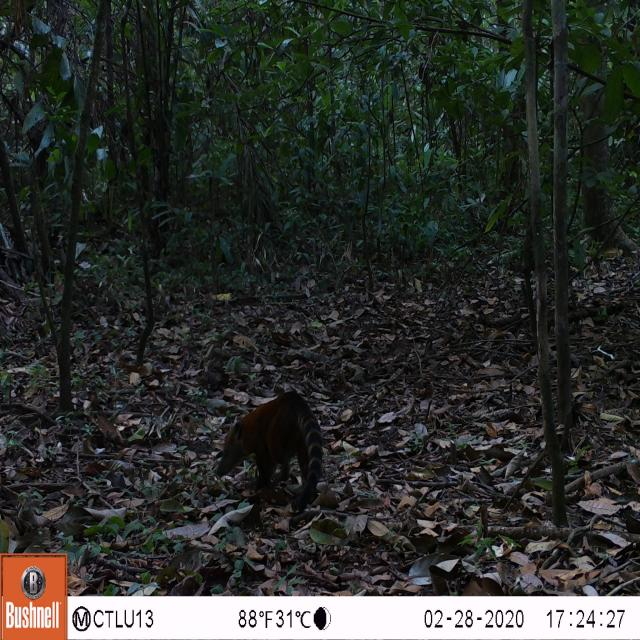South American Coati: (207, 381, 346, 520)
